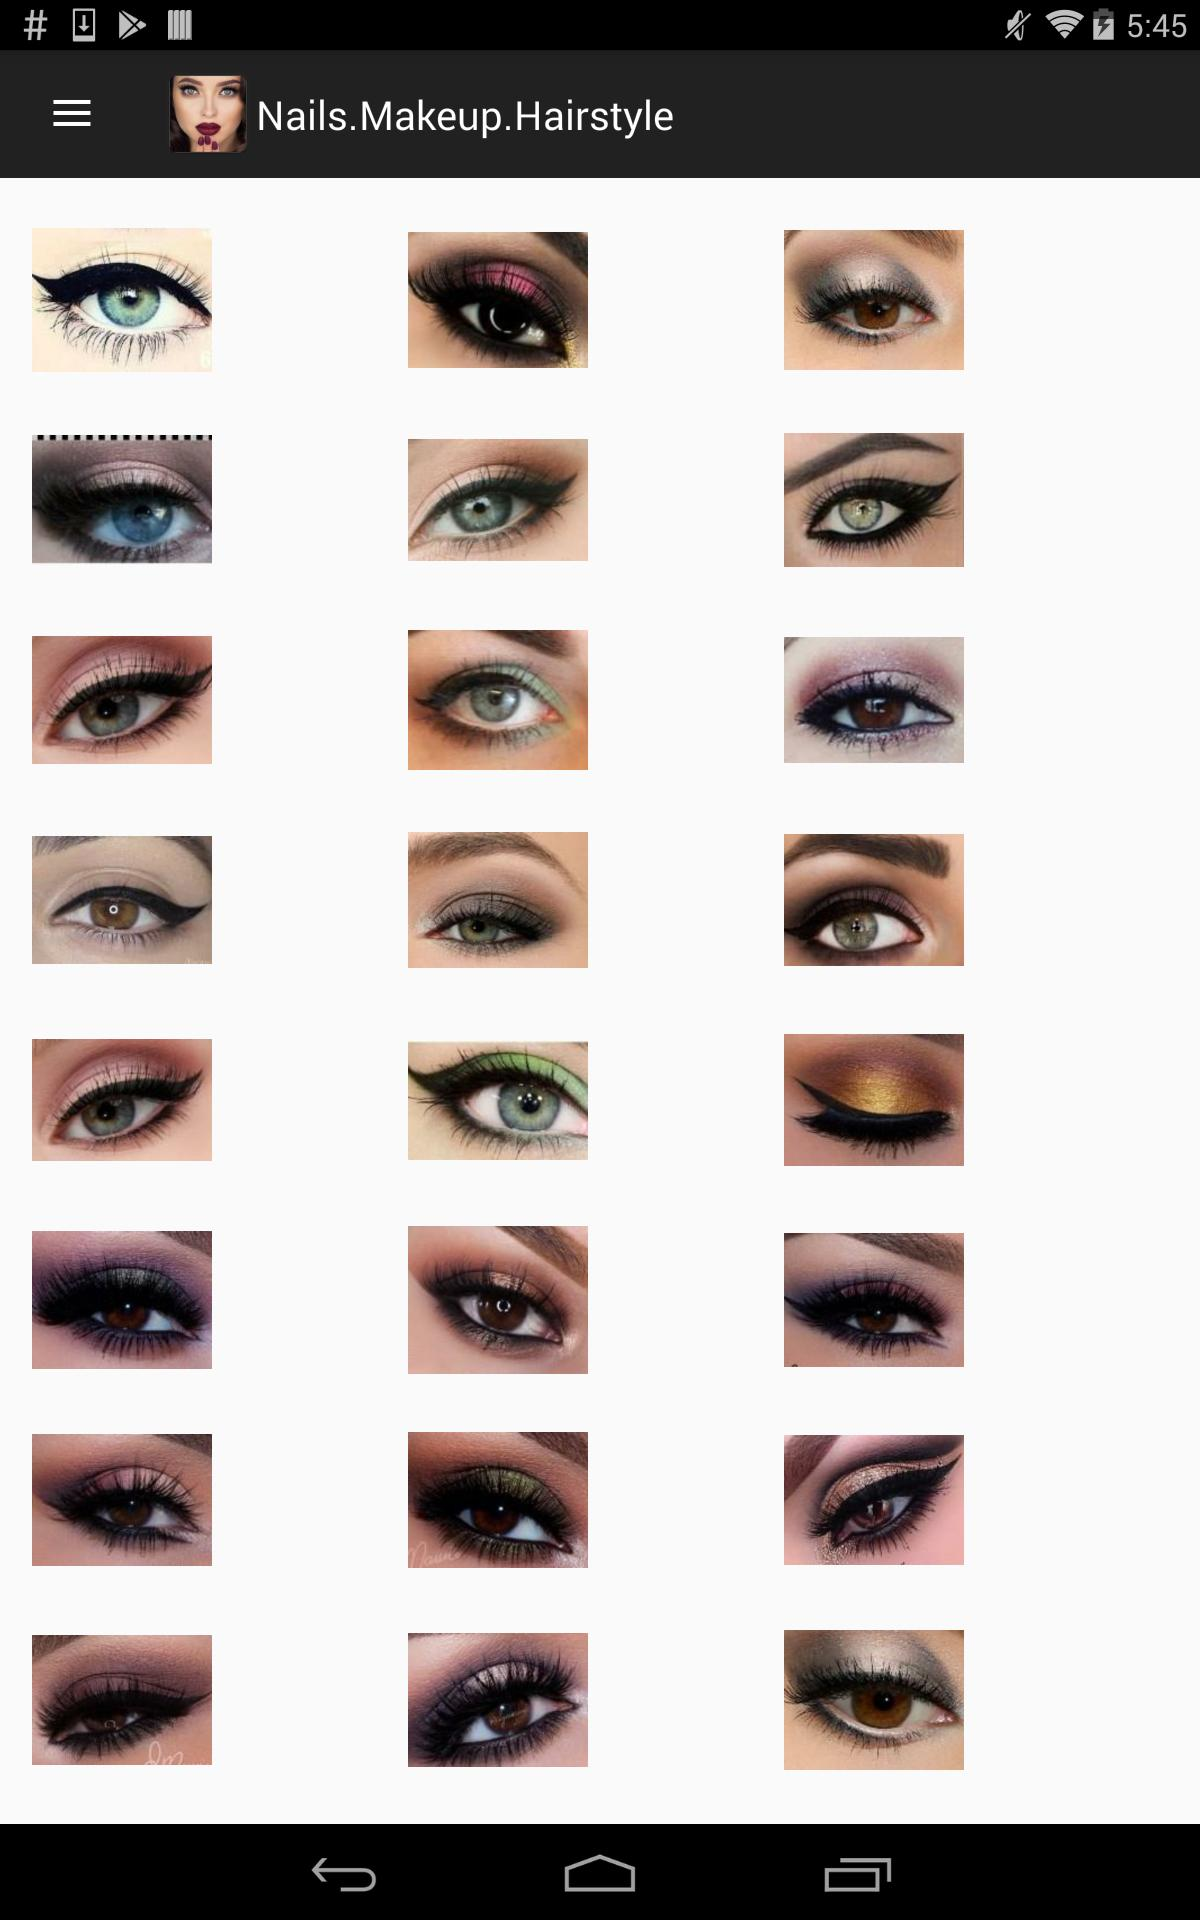android.support.v4.widget.DrawerLayout: (0, 50, 1200, 1825)
android.view.View: (0, 50, 1200, 1825), (0, 50, 1200, 178)
android.widget.FrameLayout: (0, 0, 1200, 1825), (0, 50, 1200, 1825)
android.widget.GridView: (32, 210, 1168, 1791)
android.widget.ImageButton: (17, 50, 129, 178)
android.widget.ImageView: (32, 610, 212, 791), (408, 610, 588, 791), (784, 610, 964, 791), (32, 1210, 212, 1391), (408, 1210, 588, 1391), (784, 1210, 964, 1391), (32, 210, 212, 390), (408, 210, 588, 390), (784, 210, 964, 390), (32, 411, 212, 590), (408, 411, 588, 590), (784, 411, 964, 590), (32, 810, 212, 990), (408, 810, 588, 990), (784, 810, 964, 990), (32, 1010, 212, 1190), (408, 1010, 588, 1190), (784, 1010, 964, 1190), (32, 1410, 212, 1590), (408, 1410, 588, 1590), (784, 1410, 964, 1590), (32, 1610, 212, 1790), (408, 1610, 588, 1790), (784, 1610, 964, 1790), (160, 66, 256, 162)
android.widget.LinearLayout: (0, 0, 1200, 1825), (0, 50, 1200, 1825), (0, 50, 1200, 178), (32, 210, 408, 411), (408, 210, 784, 411), (784, 210, 1160, 411), (32, 610, 408, 810), (408, 610, 784, 810), (784, 610, 1160, 810), (32, 810, 408, 1010), (408, 810, 784, 1010), (784, 810, 1160, 1010), (32, 1210, 408, 1410), (408, 1210, 784, 1410), (784, 1210, 1160, 1410), (32, 1410, 408, 1610), (408, 1410, 784, 1610), (784, 1410, 1160, 1610), (32, 411, 408, 610), (408, 411, 784, 610), (784, 411, 1160, 610), (32, 1010, 408, 1210), (408, 1010, 784, 1210), (784, 1010, 1160, 1210), (32, 1610, 408, 1809), (408, 1610, 784, 1809), (784, 1610, 1160, 1809)
android.widget.RelativeLayout: (0, 178, 1200, 1825)
android.widget.TextView: (256, 87, 675, 141)
